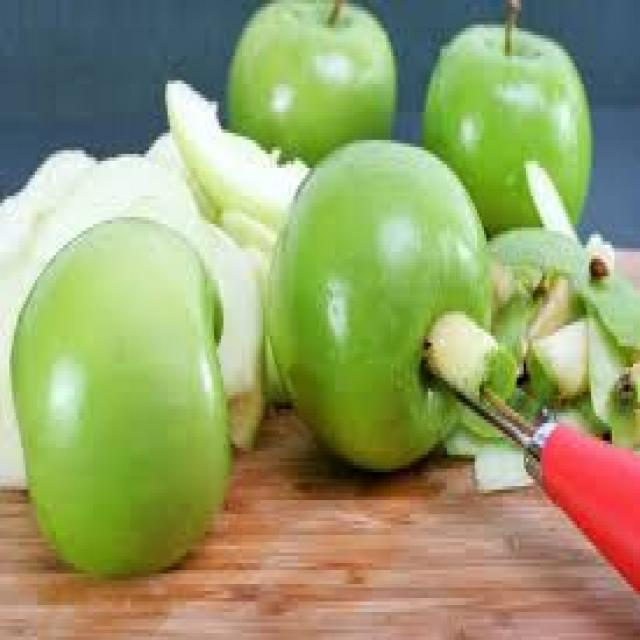Apple: (9, 203, 240, 580), (269, 138, 509, 464), (428, 18, 596, 230), (229, 5, 397, 136)
